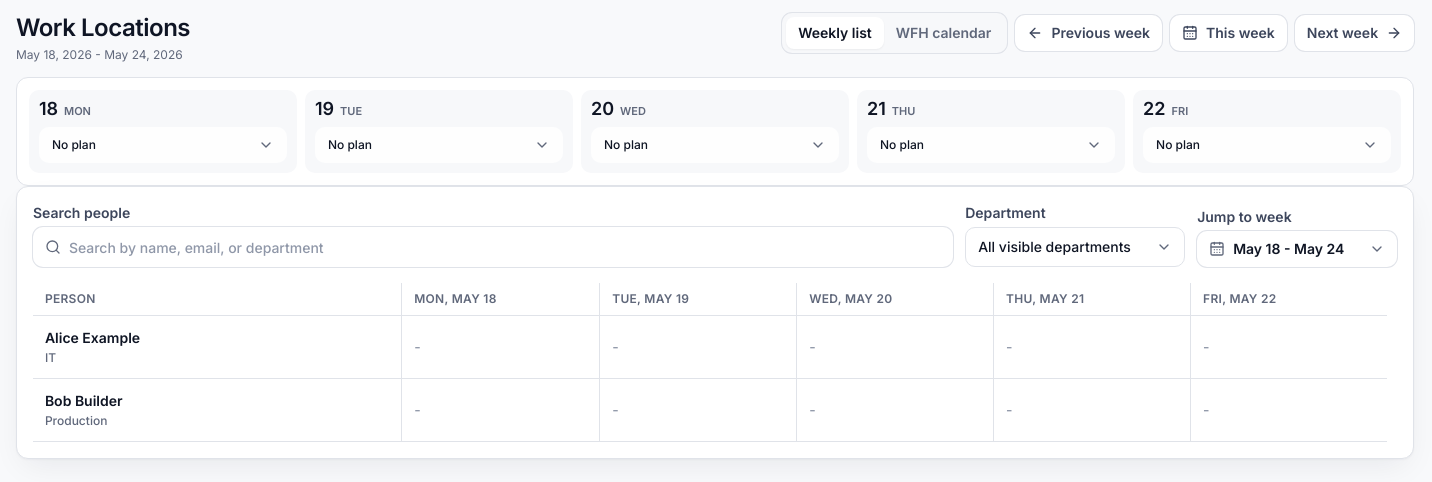
Test: WorkLocationCalendar › saves my weekly plan and updates my visible calendar row
What coordinates should you click on to do the following:
click the button with aria-label "Plan for Wed, May 20"
I would click on:
 (715, 146)
Its box is [592,128,838,162].
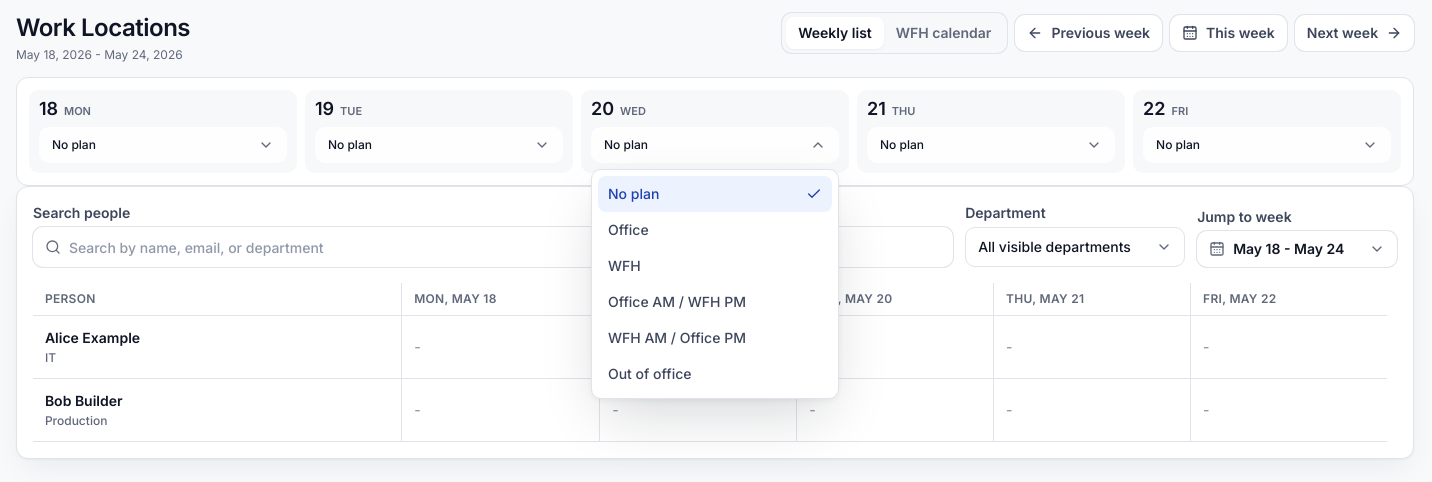
What coordinates should you click on to do the following:
click the option "Office"
I would click on:
 (715, 230)
Its box is [598,212,832,248].
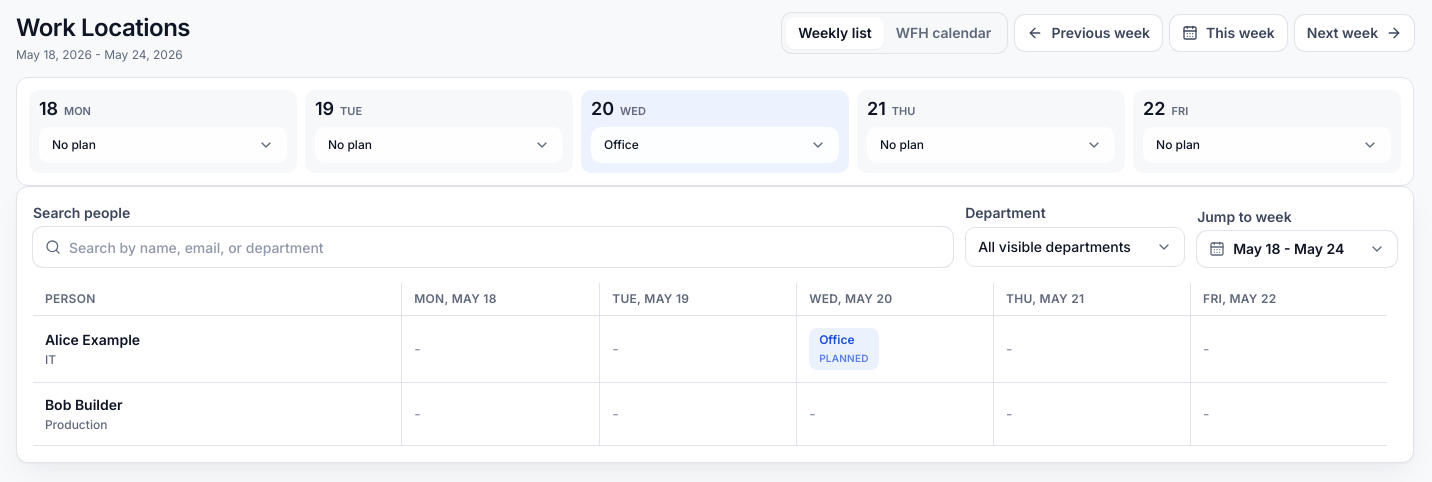
expect the text "Planned" is shown once: met, box [819,350,869,366]
